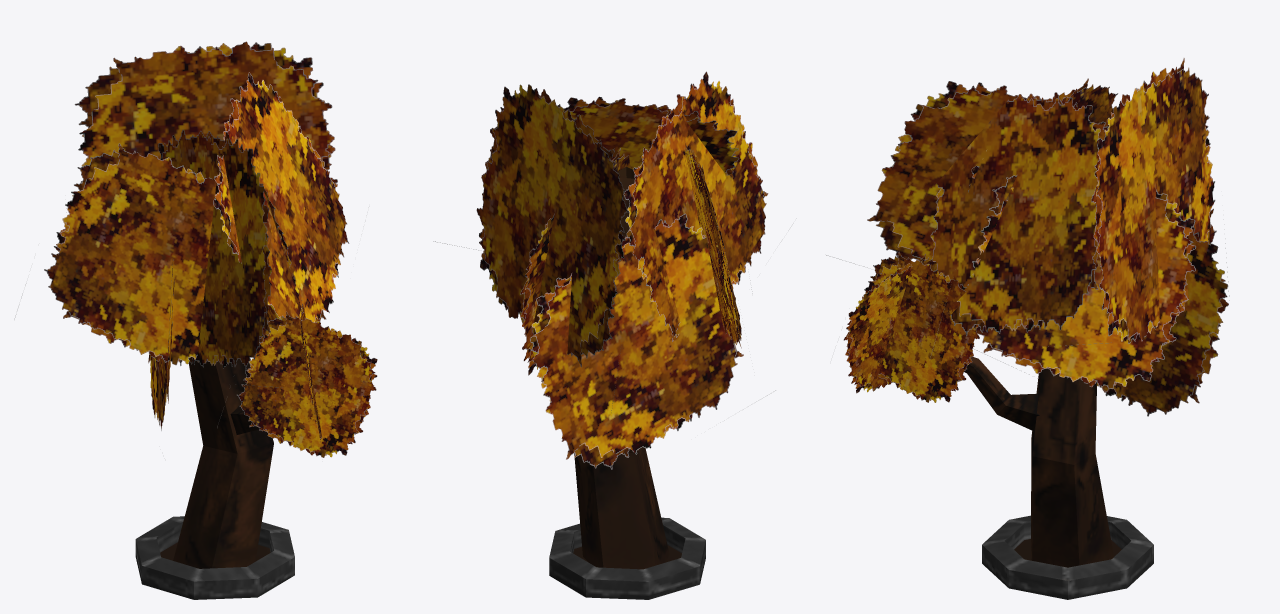
File: treesStreet.fbx
3 views of the same model, side by side, from view 1: azimuth 30°, elevation 25°; view 2: azimuth 150°, elevation 25°; view 3: azimuth 270°, elevation 25° (orthographic). The views are drawn at different scales.
Parts seen in each view (by area): view 1: TreeStreetBig_1; view 2: TreeStreetBig_1; view 3: TreeStreetBig_1.
Boxes of the visible parts, x1,y1,x2,y2 form: TreeStreetBig_1: (14, 41, 377, 599); TreeStreetBig_1: (433, 71, 796, 599); TreeStreetBig_1: (826, 58, 1229, 599).
Size of the model in its own units: 1316 by 1194 by 1731.
1 material, 1 textured.
